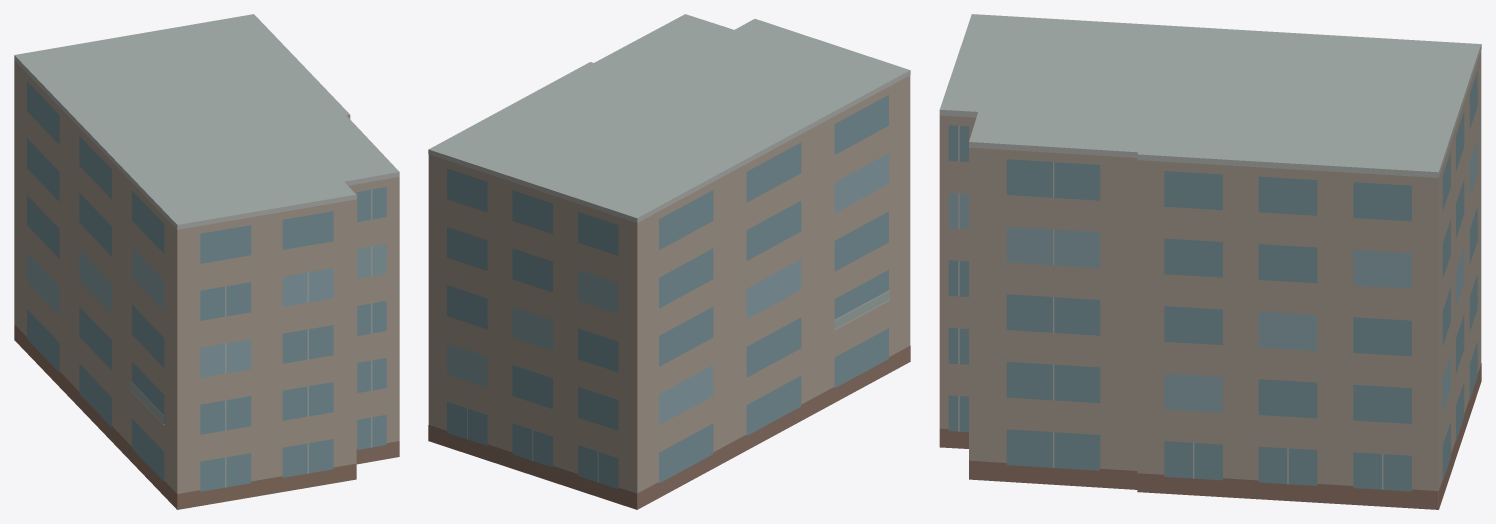
Rendered from survey-upis-32960031.glb.
The picture shows the model from 3 angles, left to right: view 1: azimuth 30°, elevation 25°; view 2: azimuth 150°, elevation 25°; view 3: azimuth 270°, elevation 25°; orthographic projection. The views are drawn at different scales.
Parts seen in each view (by area): view 1: survey-upis-32960031.tmp; view 2: survey-upis-32960031.tmp; view 3: survey-upis-32960031.tmp.
Part boxes in pixels (x1,y1,x2,y2): survey-upis-32960031.tmp: [14, 14, 399, 509]; survey-upis-32960031.tmp: [428, 14, 910, 509]; survey-upis-32960031.tmp: [939, 14, 1481, 509].
Bounding box in the file's own units: 14.49 × 14.4 × 20.95.
